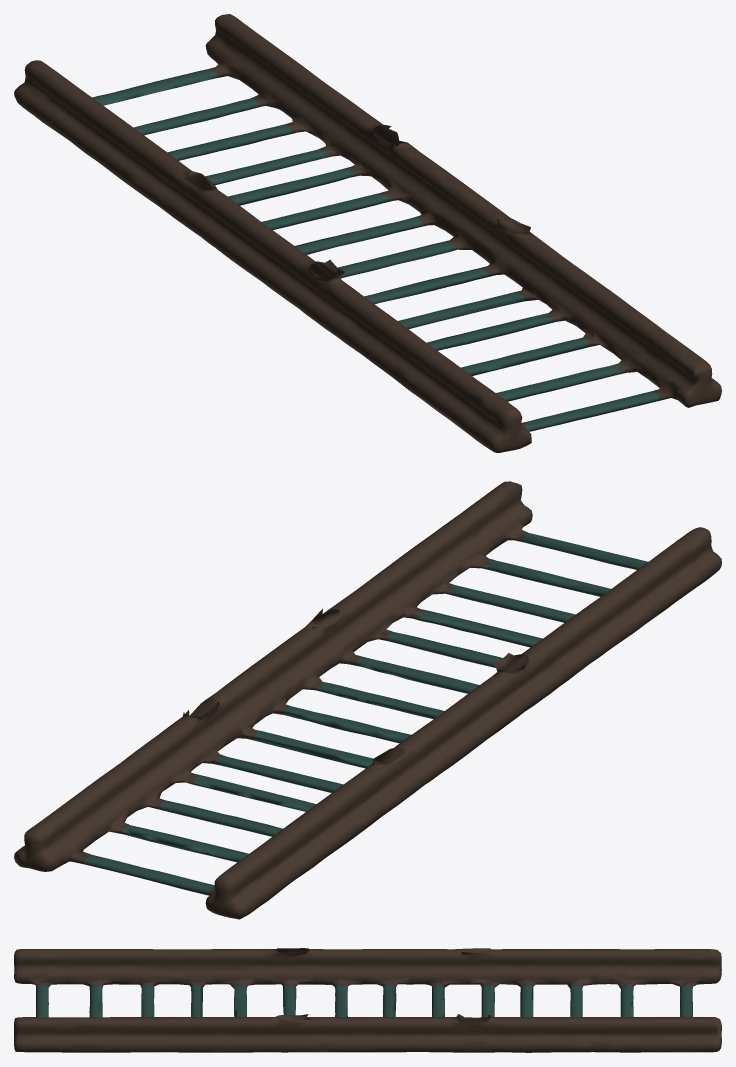
The model's file is 03_rails.glb.
The picture shows the model from 3 angles, top to bottom: view 1: azimuth 30°, elevation 25°; view 2: azimuth 150°, elevation 25°; view 3: azimuth 270°, elevation 25°; orthographic projection. The views are drawn at different scales.
Parts seen in each view (by area): view 1: 03_rails; view 2: 03_rails; view 3: 03_rails.
Boxes of the visible parts, x1,y1,x2,y2 form: 03_rails: (14,14,721,452); 03_rails: (14,481,721,919); 03_rails: (14,948,721,1052).
Size of the model in its own units: 1.1 by 0.1988 by 4.
